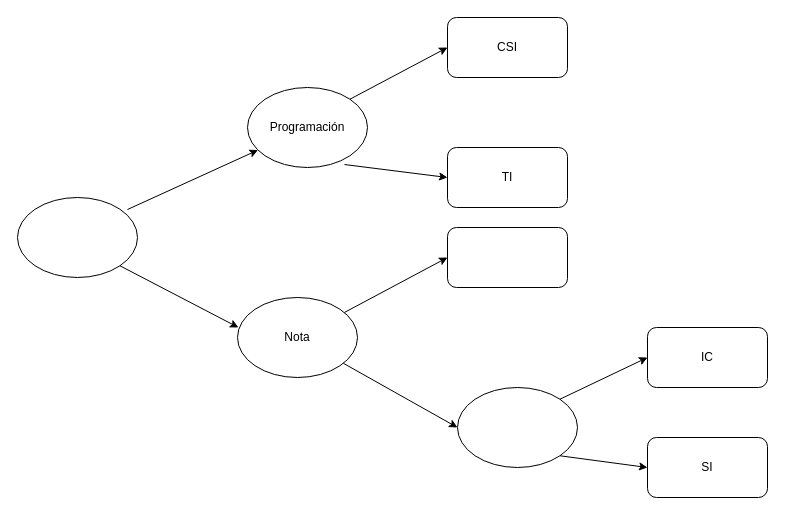
This 785x515 diagram has some shape labels left out. Each missing label, with the centre of its shape:
"Hardware" belongs at pixel 517 427.
"IS" belongs at pixel 507 257.
"Matemáticas" belongs at pixel 77 237.
